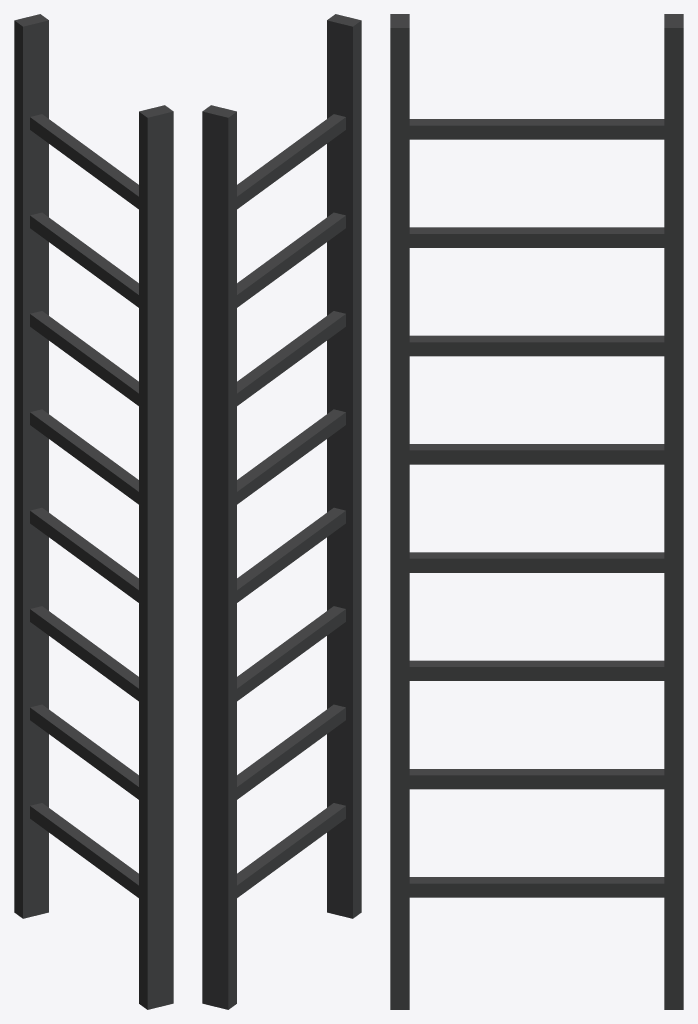
File: SM_Props_FireEscape_Steps_01.fbx
The picture shows the model from 3 angles, left to right: view 1: azimuth 30°, elevation 25°; view 2: azimuth 150°, elevation 25°; view 3: azimuth 270°, elevation 25°; orthographic projection. The views are drawn at different scales.
Parts seen in each view (by area): view 1: SM_Props_FireEscape_Steps_01; view 2: SM_Props_FireEscape_Steps_01; view 3: SM_Props_FireEscape_Steps_01.
Part boxes in pixels (x1,y1,x2,y2): SM_Props_FireEscape_Steps_01: (14, 14, 173, 1009); SM_Props_FireEscape_Steps_01: (202, 14, 361, 1009); SM_Props_FireEscape_Steps_01: (390, 14, 683, 1009).
Size of the model in its own units: 5.2 by 170 by 46.
